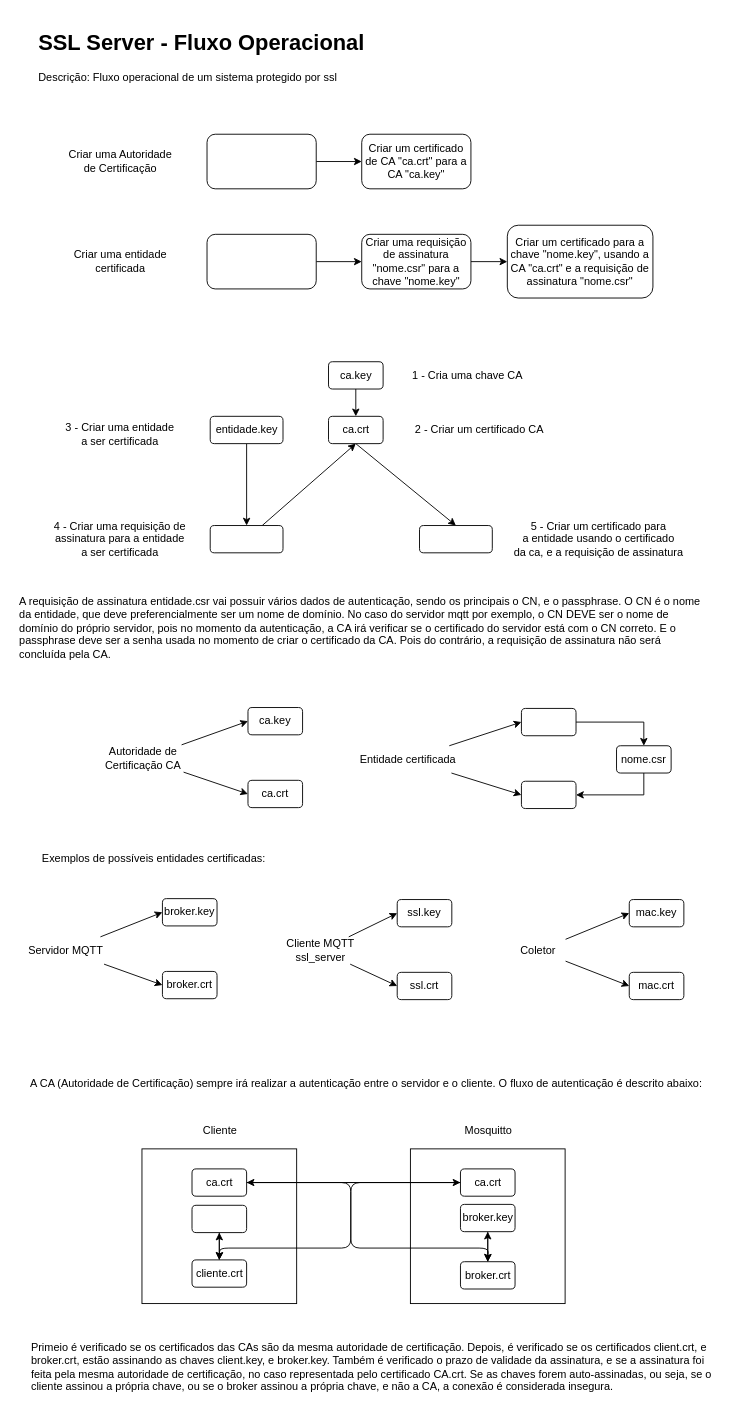
Some shapes in this 736 by 1414 pixel diagram are drawn without their labels. The box of each missing label's shape, as (x1, y1, x2, y2) in pixels:
cliente.key: (191, 1204, 247, 1233)
Criar a chave "ca.key": (206, 133, 316, 189)
Criar uma chave 'nome.key": (206, 233, 316, 289)
entidade.crt: (419, 525, 492, 553)
entidade.csr: (209, 525, 283, 553)
nome.crt: (521, 780, 576, 809)
nome.key: (521, 708, 576, 736)
